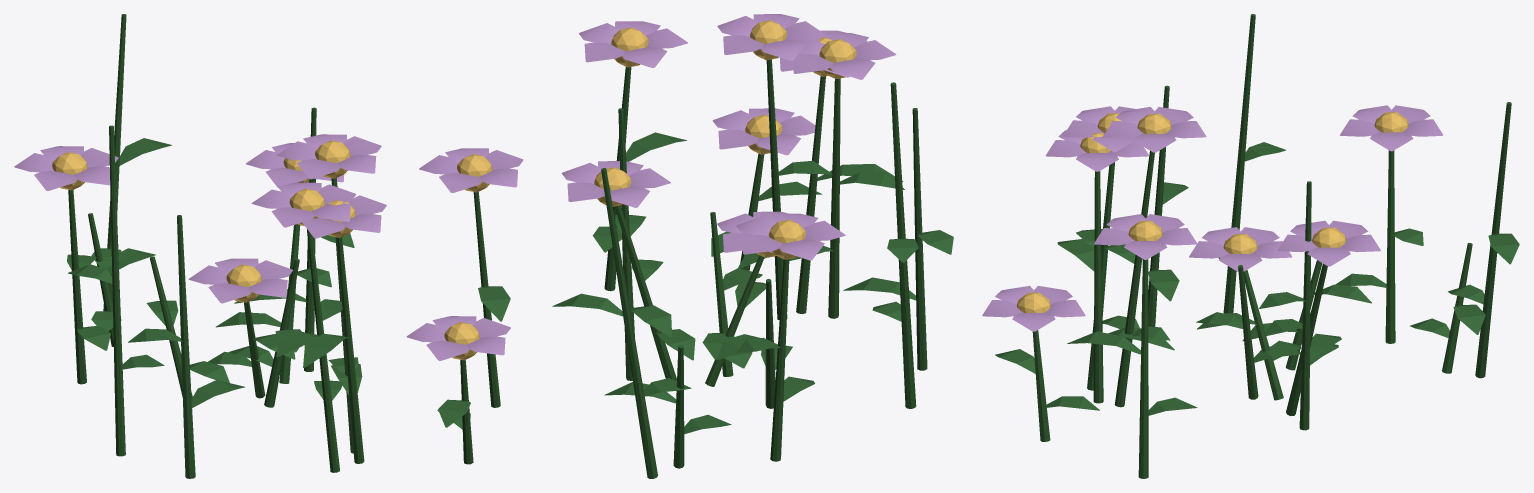
File: detail_wildflower.glb
The picture shows the model from 3 angles, left to right: view 1: azimuth 30°, elevation 25°; view 2: azimuth 150°, elevation 25°; view 3: azimuth 270°, elevation 25°; orthographic projection. The views are drawn at different scales.
Visible parts, largest first — view 1: IndividualFlowerPetals, WildflowerLeaves, Cone.009, Cone.011, Cone.008, Cone.006, Cone, Cone.005, Cone.002, Cone.013, Cone.001, Cone.003 (+11 smaller); view 2: IndividualFlowerPetals, WildflowerLeaves, Cone.005, Cone.009, Cone.011, Cone.006, Cone, Cone.008, Cone.010, Cone.012, Cone.003, Cone.013 (+11 smaller); view 3: IndividualFlowerPetals, WildflowerLeaves, Cone.005, Cone.009, Cone.003, Cone.002, Cone.008, Cone.010, Cone, Cone.011, Cone.013, Cone.014 (+11 smaller).
Part boxes in pixels (left/top/right/bottom): IndividualFlowerPetals: left=14, top=134, right=523, bottom=360; WildflowerLeaves: left=67, top=138, right=510, bottom=429; Cone.009: left=109, top=125, right=125, bottom=456; Cone.011: left=177, top=215, right=195, bottom=478; Cone.008: left=336, top=237, right=364, bottom=463; Cone.006: left=307, top=229, right=339, bottom=472; Cone: left=68, top=190, right=86, bottom=384; Cone.005: left=103, top=14, right=126, bottom=311; Cone.002: left=473, top=192, right=500, bottom=407; Cone.013: left=264, top=258, right=299, bottom=407; Cone.001: left=150, top=256, right=192, bottom=398; Cone.003: left=304, top=107, right=316, bottom=371; IndividualFlowerPetals: left=561, top=14, right=896, bottom=260; WildflowerLeaves: left=552, top=132, right=953, bottom=434; Cone.005: left=601, top=168, right=657, bottom=478; Cone.009: left=890, top=82, right=916, bottom=408; Cone.011: left=912, top=108, right=927, bottom=370; Cone.006: left=828, top=78, right=840, bottom=318; Cone: left=770, top=259, right=789, bottom=461; Cone.008: left=796, top=76, right=825, bottom=313; Cone.010: left=766, top=59, right=787, bottom=320; Cone.012: left=615, top=205, right=676, bottom=380; Cone.003: left=618, top=108, right=634, bottom=380; Cone.013: left=710, top=212, right=733, bottom=376; IndividualFlowerPetals: left=982, top=105, right=1442, bottom=331; WildflowerLeaves: left=995, top=142, right=1519, bottom=415; Cone.005: left=1475, top=102, right=1511, bottom=378; Cone.009: left=1223, top=14, right=1255, bottom=313; Cone.003: left=1299, top=181, right=1311, bottom=430; Cone.002: left=1138, top=259, right=1148, bottom=478; Cone.008: left=1093, top=171, right=1103, bottom=403; Cone.010: left=1114, top=151, right=1154, bottom=407; Cone: left=1385, top=150, right=1395, bottom=343; Cone.011: left=1148, top=85, right=1169, bottom=326; Cone.013: left=1238, top=265, right=1258, bottom=399; Cone.014: left=1243, top=270, right=1283, bottom=400.
Size of the model in its own units: 1.03 by 0.8151 by 1.28.
